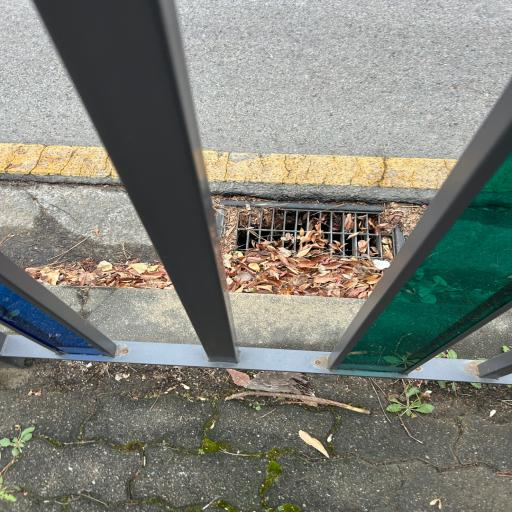debris: (345, 211, 394, 258), (357, 239, 376, 256), (333, 216, 339, 229)
drain: (222, 199, 400, 295)
